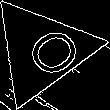O_SW: (6, 18, 78, 83)
